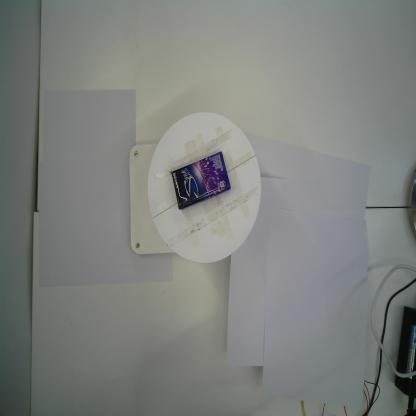Gum: (170, 148, 232, 213)
